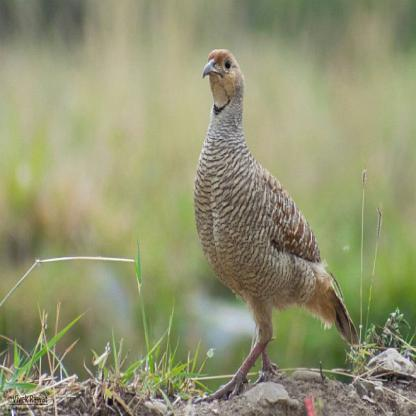Burung: (194, 48, 360, 405)
